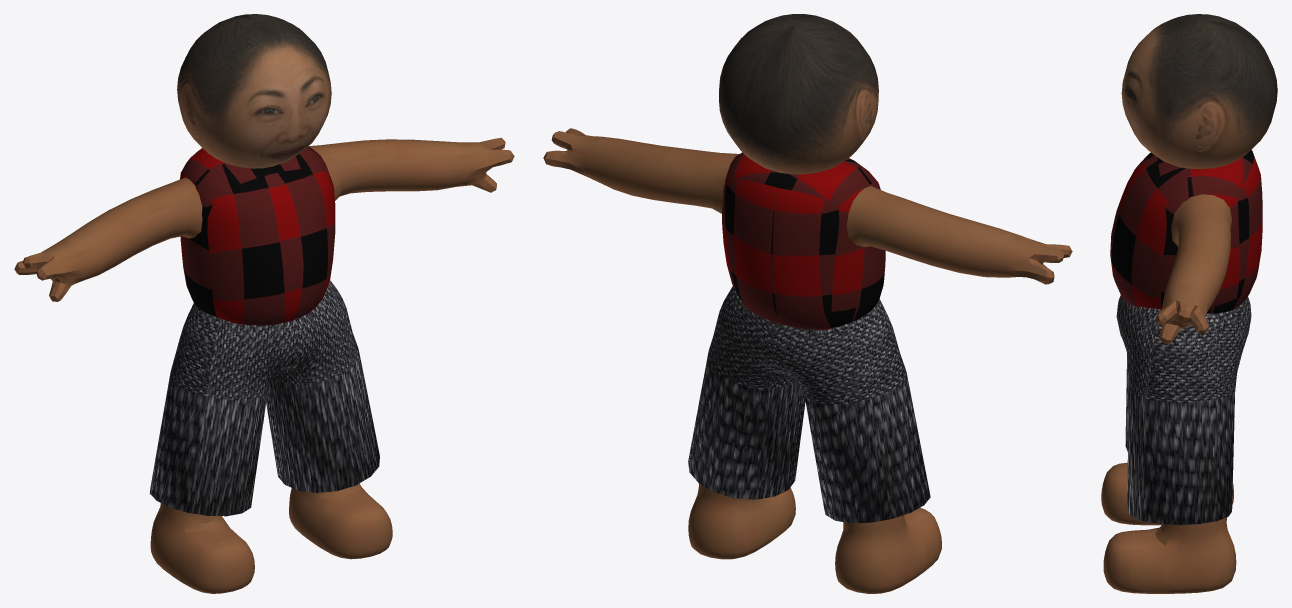
File: 9 npc.fbx
3 renders of one model, left to right at view 1: azimuth 30°, elevation 25°; view 2: azimuth 150°, elevation 25°; view 3: azimuth 270°, elevation 25°, orthographic. The views are drawn at different scales.
Visible parts, largest first — view 1: group6_pasted__Scarft 4_pasted__polySurface66; view 2: group6_pasted__Scarft 4_pasted__polySurface66; view 3: group6_pasted__Scarft 4_pasted__polySurface66.
Part boxes in pixels (<box>): group6_pasted__Scarft 4_pasted__polySurface66: <box>14,14,514,593</box>; group6_pasted__Scarft 4_pasted__polySurface66: <box>543,14,1072,593</box>; group6_pasted__Scarft 4_pasted__polySurface66: <box>1101,14,1277,593</box>.
Bounding box in the file's own units: 7.24 × 7.46 × 2.26.
4 materials, 4 textured.
